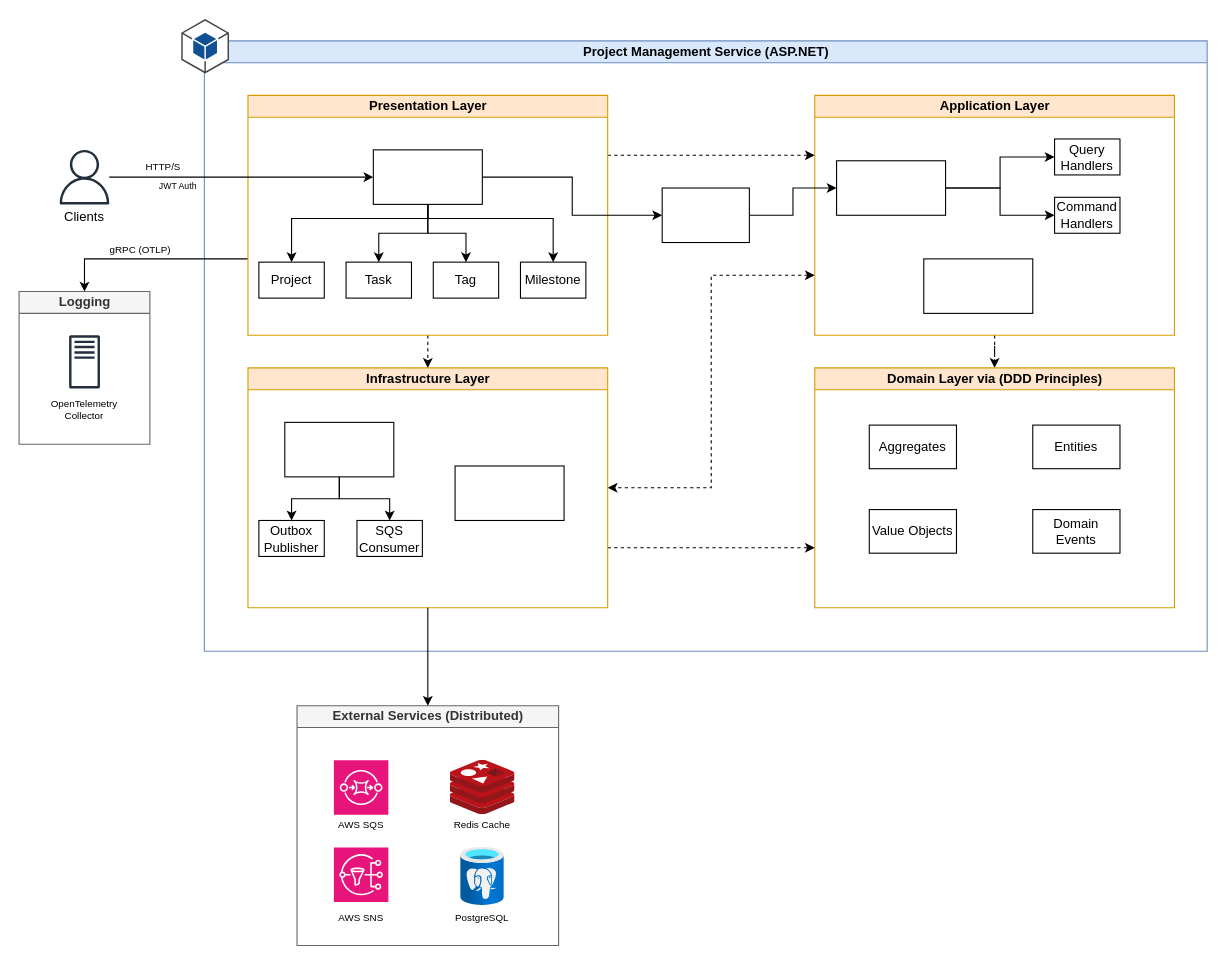
This 1226x965 diagram has some shape labels left out. The shapes that lost their labels are listed below. From the top down, each one's centre as x and y in pixels, then its label:
[427,176]: Controllers
[890,187]: CQRS Handlers
[705,215]: MediatR
[978,285]: Interfaces
[339,449]: Messaging Async Workers
[509,492]: Repository Implementatios
